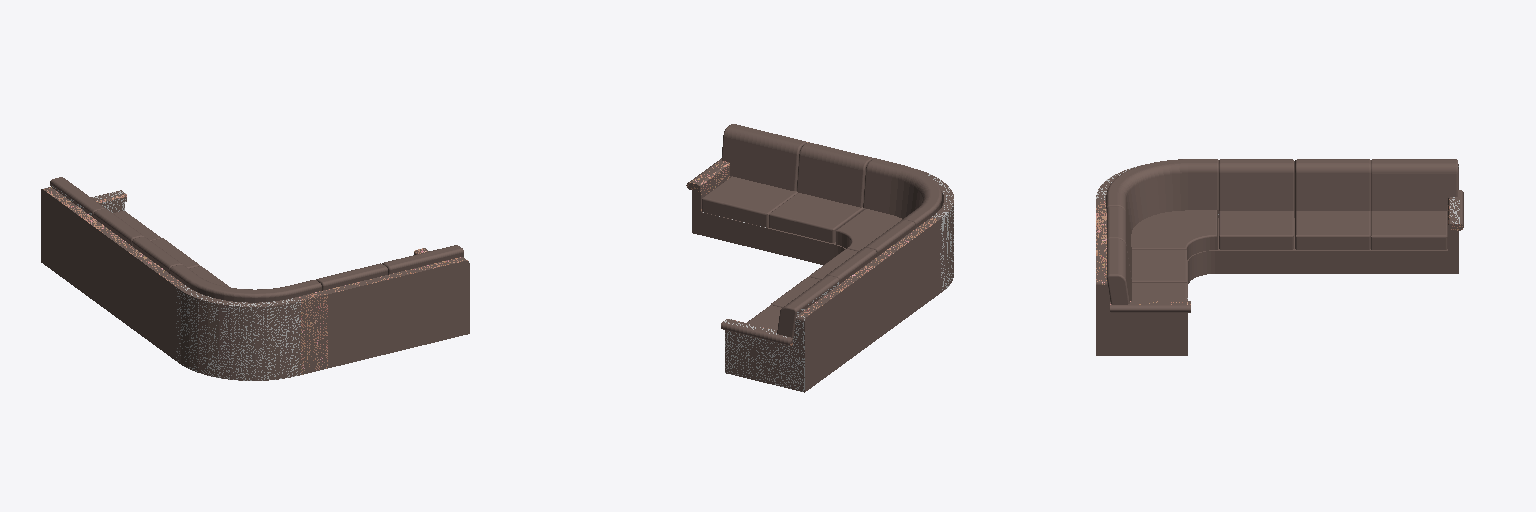
3 renders of one model, left to right at view 1: azimuth 30°, elevation 25°; view 2: azimuth 150°, elevation 25°; view 3: azimuth 270°, elevation 25°, orthographic.
Visible parts, largest first — view 1: mesh2.001_mesh2-geometry, mesh16.001_mesh16-geometry, mesh11.001_mesh11-geometry, mesh31.001_mesh31-geometry, mesh23.001_mesh23-geometry, mesh22.001_mesh22-geometry, mesh6.001_mesh6-geometry, mesh8.001_mesh8-geometry, mesh9.001_mesh9-geometry, mesh28.001_mesh28-geometry, mesh18.001_mesh18-geometry, mesh26.001_mesh26-geometry; view 2: mesh31.001_mesh31-geometry, mesh8.001_mesh8-geometry, mesh6.001_mesh6-geometry, mesh9.001_mesh9-geometry, mesh23.001_mesh23-geometry, mesh22.001_mesh22-geometry, mesh14.001_mesh14-geometry, mesh12.001_mesh12-geometry, mesh16.001_mesh16-geometry, mesh2.001_mesh2-geometry, mesh1.001_mesh1-geometry, mesh11.001_mesh11-geometry (+3 smaller); view 3: mesh16.001_mesh16-geometry, mesh6.001_mesh6-geometry, mesh28.001_mesh28-geometry, mesh18.001_mesh18-geometry, mesh26.001_mesh26-geometry, mesh1.001_mesh1-geometry, mesh29.001_mesh29-geometry, mesh20.001_mesh20-geometry, mesh31.001_mesh31-geometry, mesh24.001_mesh24-geometry, mesh23.001_mesh23-geometry, mesh22.001_mesh22-geometry (+5 smaller).
Boxes of the visible parts, <box> form: mesh2.001_mesh2-geometry: <box>160,274,327,380</box>; mesh16.001_mesh16-geometry: <box>389,248,469,351</box>; mesh11.001_mesh11-geometry: <box>323,275,393,367</box>; mesh31.001_mesh31-geometry: <box>41,187,126,292</box>; mesh23.001_mesh23-geometry: <box>122,246,168,348</box>; mesh22.001_mesh22-geometry: <box>84,217,130,320</box>; mesh6.001_mesh6-geometry: <box>170,265,321,302</box>; mesh8.001_mesh8-geometry: <box>382,245,463,274</box>; mesh9.001_mesh9-geometry: <box>316,263,387,290</box>; mesh28.001_mesh28-geometry: <box>50,177,105,218</box>; mesh18.001_mesh18-geometry: <box>94,209,144,245</box>; mesh26.001_mesh26-geometry: <box>132,237,182,273</box>; mesh31.001_mesh31-geometry: <box>721,284,848,392</box>; mesh8.001_mesh8-geometry: <box>722,124,806,190</box>; mesh6.001_mesh6-geometry: <box>863,158,941,229</box>; mesh9.001_mesh9-geometry: <box>797,142,872,207</box>; mesh23.001_mesh23-geometry: <box>878,229,924,331</box>; mesh22.001_mesh22-geometry: <box>841,257,886,359</box>; mesh14.001_mesh14-geometry: <box>702,176,797,227</box>; mesh12.001_mesh12-geometry: <box>769,193,865,242</box>; mesh16.001_mesh16-geometry: <box>686,142,807,251</box>; mesh2.001_mesh2-geometry: <box>834,169,953,303</box>; mesh1.001_mesh1-geometry: <box>836,209,901,251</box>; mesh11.001_mesh11-geometry: <box>768,158,873,264</box>; mesh16.001_mesh16-geometry: <box>1096,245,1190,355</box>; mesh6.001_mesh6-geometry: <box>1106,159,1218,239</box>; mesh28.001_mesh28-geometry: <box>1371,159,1457,210</box>; mesh18.001_mesh18-geometry: <box>1295,159,1370,210</box>; mesh26.001_mesh26-geometry: <box>1219,159,1294,210</box>; mesh1.001_mesh1-geometry: <box>1131,210,1217,259</box>; mesh29.001_mesh29-geometry: <box>1371,205,1447,249</box>; mesh20.001_mesh20-geometry: <box>1295,210,1370,249</box>; mesh31.001_mesh31-geometry: <box>1371,164,1463,273</box>; mesh24.001_mesh24-geometry: <box>1219,211,1293,249</box>; mesh23.001_mesh23-geometry: <box>1219,210,1294,273</box>; mesh22.001_mesh22-geometry: <box>1295,249,1371,273</box>.
Bounding box in the file's own units: 0.6105 × 0.1874 × 0.7695.
Materials: 3 (1 with a texture image).